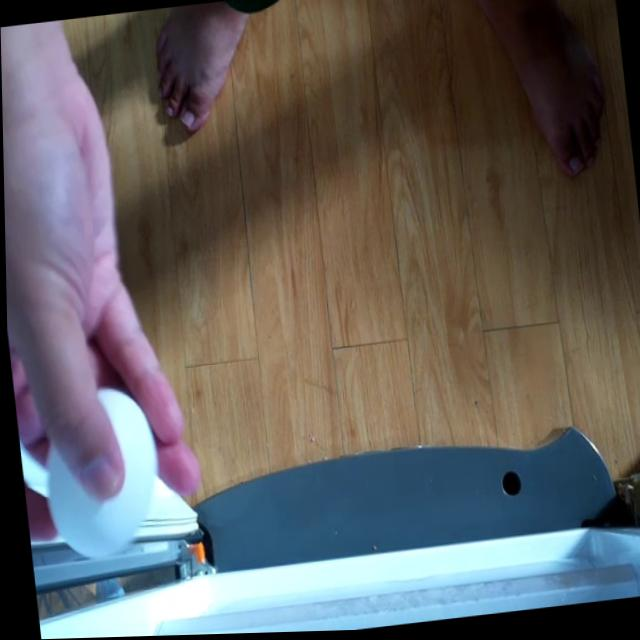egg: (34, 383, 172, 570)
